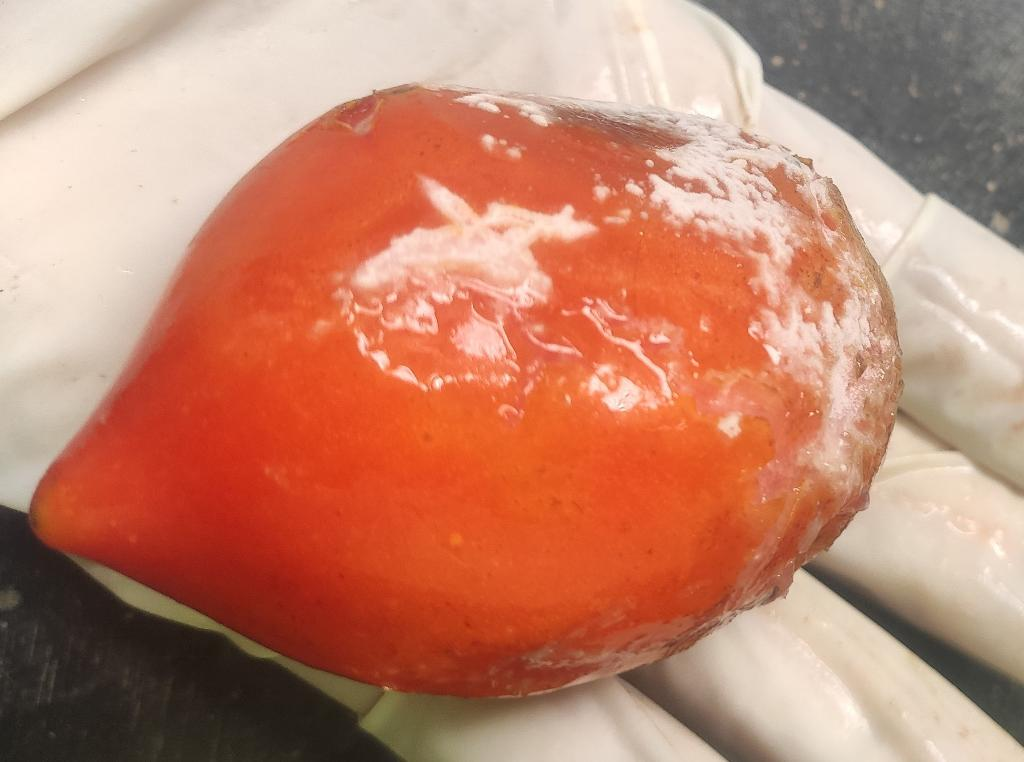rot_mold_decay: (422, 85, 901, 502)
surface_damage: (361, 178, 602, 290), (338, 93, 380, 128)
tomato: (30, 86, 899, 696)
